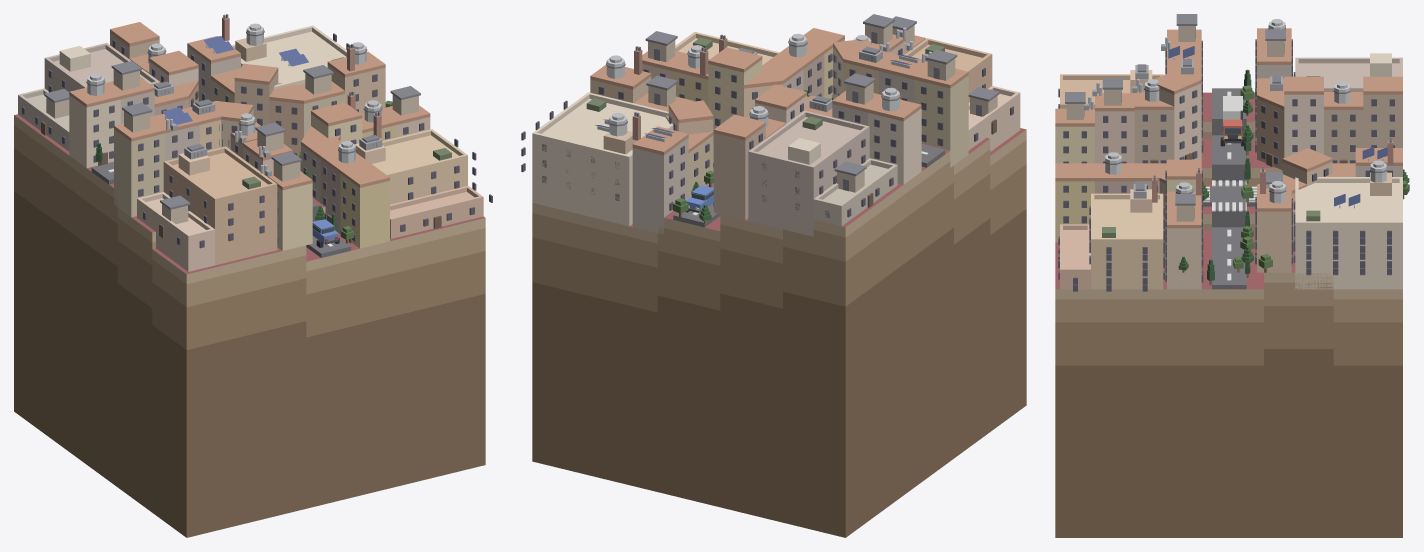
The model's file is block_17_engineered_20.glb.
The picture shows the model from 3 angles, left to right: view 1: azimuth 30°, elevation 25°; view 2: azimuth 150°, elevation 25°; view 3: azimuth 270°, elevation 25°; orthographic projection. The views are drawn at different scales.
Visible parts, largest first — view 1: Patch_MidRight_b15_ES, Cerda_MidRight_b15_ES, Insets_MidRight_b15_ES, CerdaRoofProps_MidRight_b15_ES, Roads_MidRight_b15_ES, Asset_Car.036_ES; view 2: Patch_MidRight_b15_ES, Cerda_MidRight_b15_ES, Insets_MidRight_b15_ES, CerdaRoofProps_MidRight_b15_ES, Roads_MidRight_b15_ES; view 3: Patch_MidRight_b15_ES, Cerda_MidRight_b15_ES, Insets_MidRight_b15_ES, CerdaRoofProps_MidRight_b15_ES, Roads_MidRight_b15_ES, Asset_Truck.009_ES, Zebra_MidRight_b15_ES.
Part boxes in pixels (left/top/right/bottom): Patch_MidRight_b15_ES: left=14, top=114, right=485, bottom=537; Cerda_MidRight_b15_ES: left=69, top=22, right=430, bottom=250; Insets_MidRight_b15_ES: left=18, top=25, right=492, bottom=271; CerdaRoofProps_MidRight_b15_ES: left=44, top=14, right=420, bottom=223; Roads_MidRight_b15_ES: left=91, top=162, right=351, bottom=257; Asset_Car.036_ES: left=312, top=219, right=339, bottom=247; Patch_MidRight_b15_ES: left=532, top=128, right=1026, bottom=537; Cerda_MidRight_b15_ES: left=590, top=28, right=968, bottom=234; Insets_MidRight_b15_ES: left=521, top=32, right=1020, bottom=236; CerdaRoofProps_MidRight_b15_ES: left=595, top=14, right=999, bottom=192; Roads_MidRight_b15_ES: left=673, top=144, right=944, bottom=227; Patch_MidRight_b15_ES: left=1055, top=92, right=1402, bottom=537; Cerda_MidRight_b15_ES: left=1055, top=28, right=1402, bottom=289; Insets_MidRight_b15_ES: left=1058, top=53, right=1402, bottom=291; CerdaRoofProps_MidRight_b15_ES: left=1065, top=14, right=1393, bottom=221; Roads_MidRight_b15_ES: left=1203, top=88, right=1256, bottom=289; Asset_Truck.009_ES: left=1220, top=96, right=1244, bottom=146; Zebra_MidRight_b15_ES: left=1203, top=180, right=1256, bottom=211.
Bounding box in the file's own units: 10 × 11.5 × 9.68.
